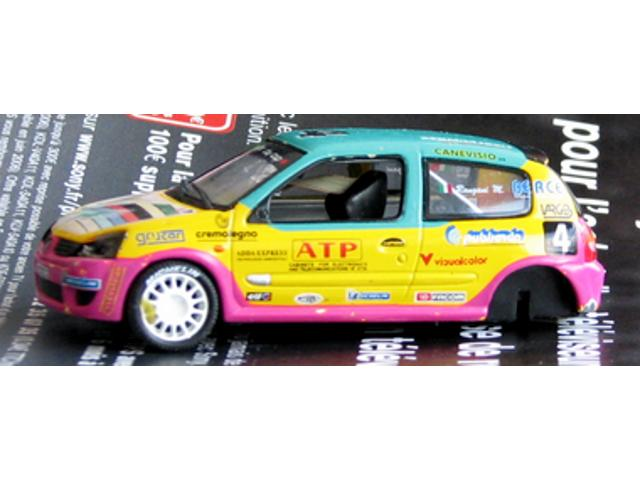toy-car: (33, 128, 605, 351)
